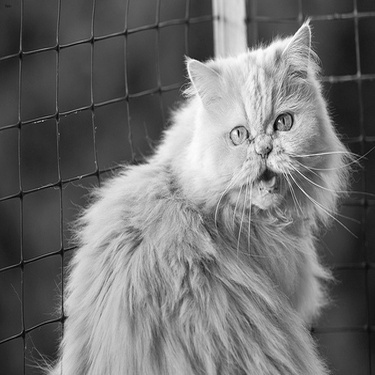cat: (62, 21, 359, 369)
